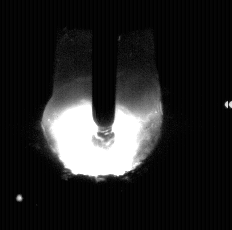arame: (93, 0, 118, 139)
poca: (41, 0, 163, 230)
